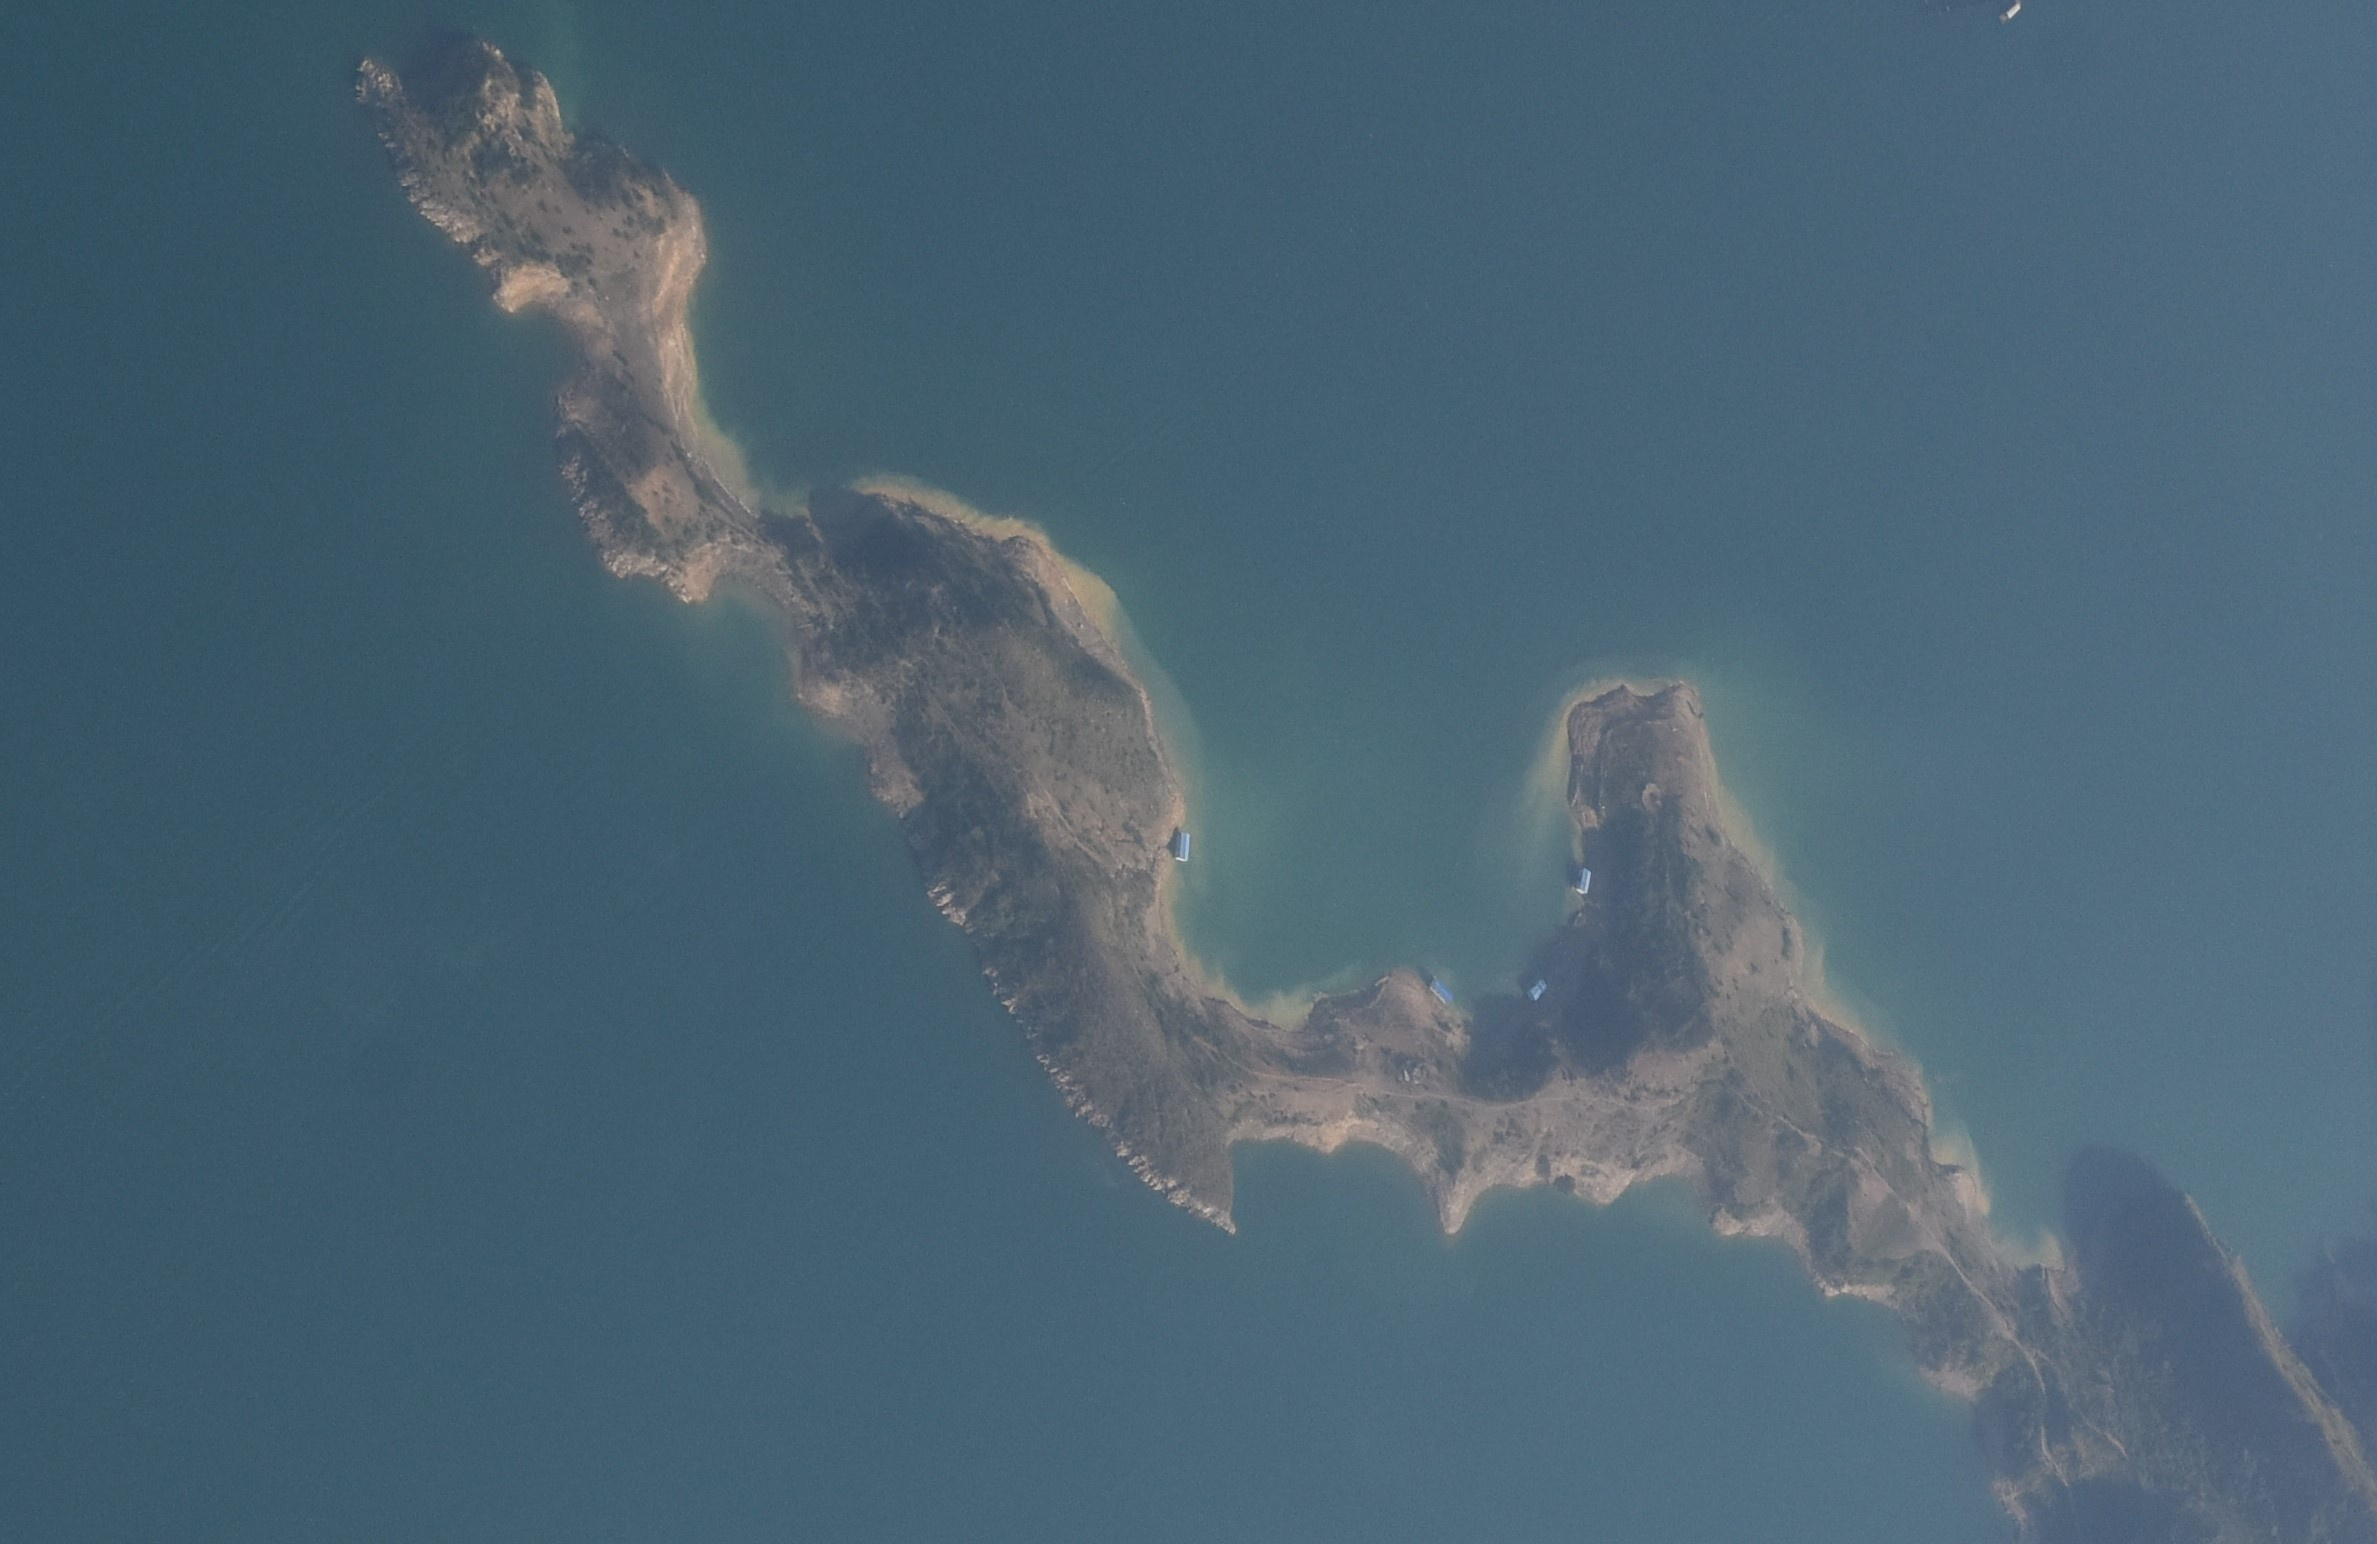prefabricated-house: (1430, 975, 1454, 1008), (1172, 827, 1191, 859), (1527, 976, 1548, 1001), (1574, 867, 1592, 894)
